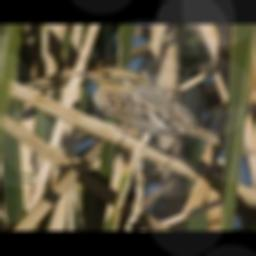Sparrow: (70, 65, 256, 158)
